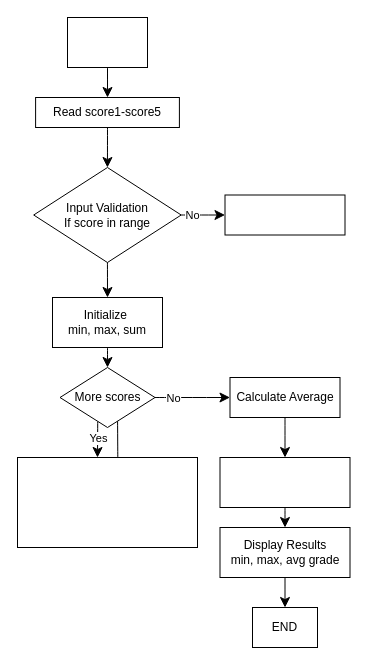
The diagram is 368 pixels wide and 665 high, and some of its shapes have lost their labels. Here are the shapes that lost their labels. From the top down, the centre of each, then its label:
the point at 107,42: START
the point at 284,214: Error. END
the point at 107,502: Process Remaining Scores Update min Update max Add to sum
the point at 284,482: Determine Graade A/B/C/D/F
